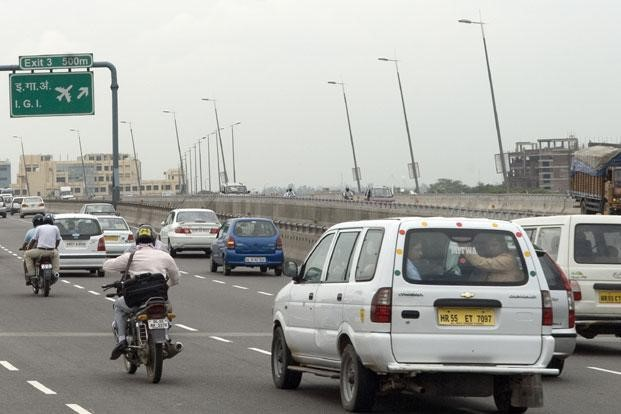LightVehicle: (269, 216, 557, 413), (211, 213, 282, 277)
MotorCycle: (130, 296, 184, 385), (29, 253, 61, 302)
